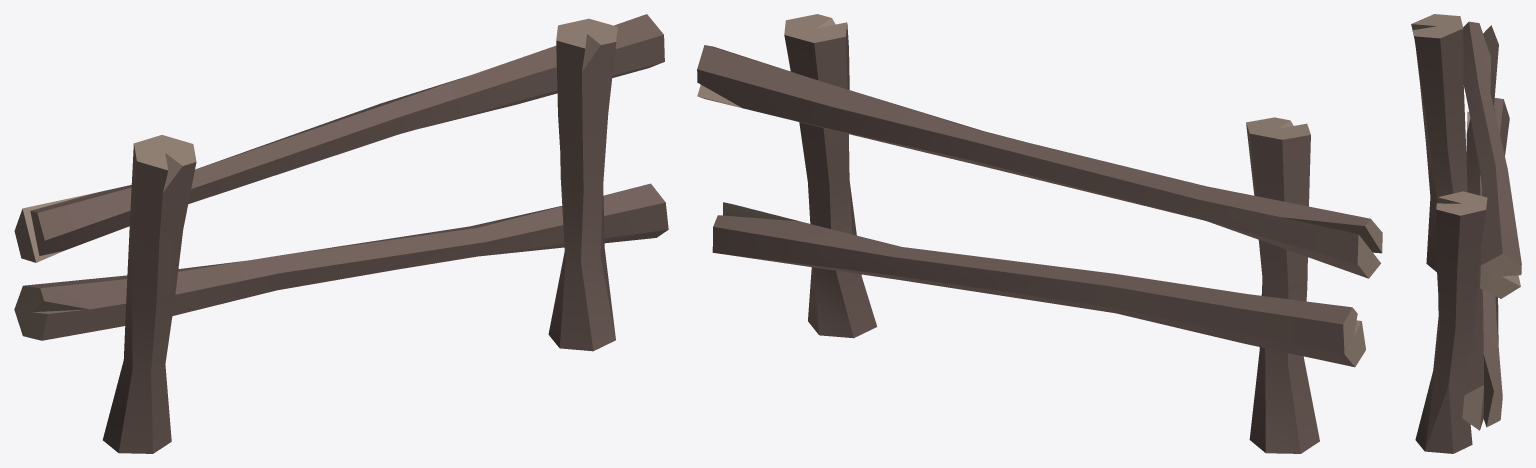
File: Sketchfab_2017_11_01_00_22_29.fbx
The picture shows the model from 3 angles, left to right: view 1: azimuth 30°, elevation 25°; view 2: azimuth 150°, elevation 25°; view 3: azimuth 270°, elevation 25°; orthographic projection. The views are drawn at different scales.
Parts seen in each view (by area): view 1: fence_1.003; view 2: fence_1.003; view 3: fence_1.003.
Part boxes in pixels (x1,y1,x2,y2): fence_1.003: [14, 14, 668, 453]; fence_1.003: [697, 14, 1382, 453]; fence_1.003: [1411, 14, 1521, 453].
Bounding box in the file's own units: 184 × 80.99 × 32.76.
